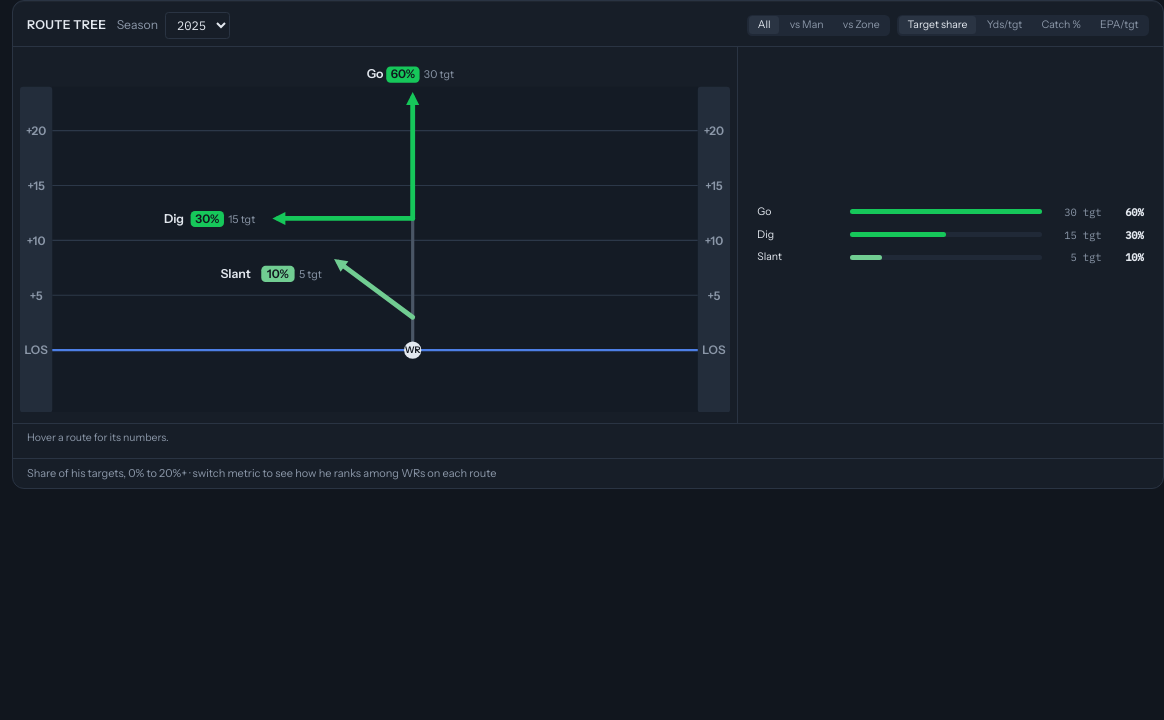
RouteTree › hovering a bar highlights its route and fills the tip line
Hover over the list item "Go 30 tgt 60%" at (951, 212), box [752, 201, 1149, 222]
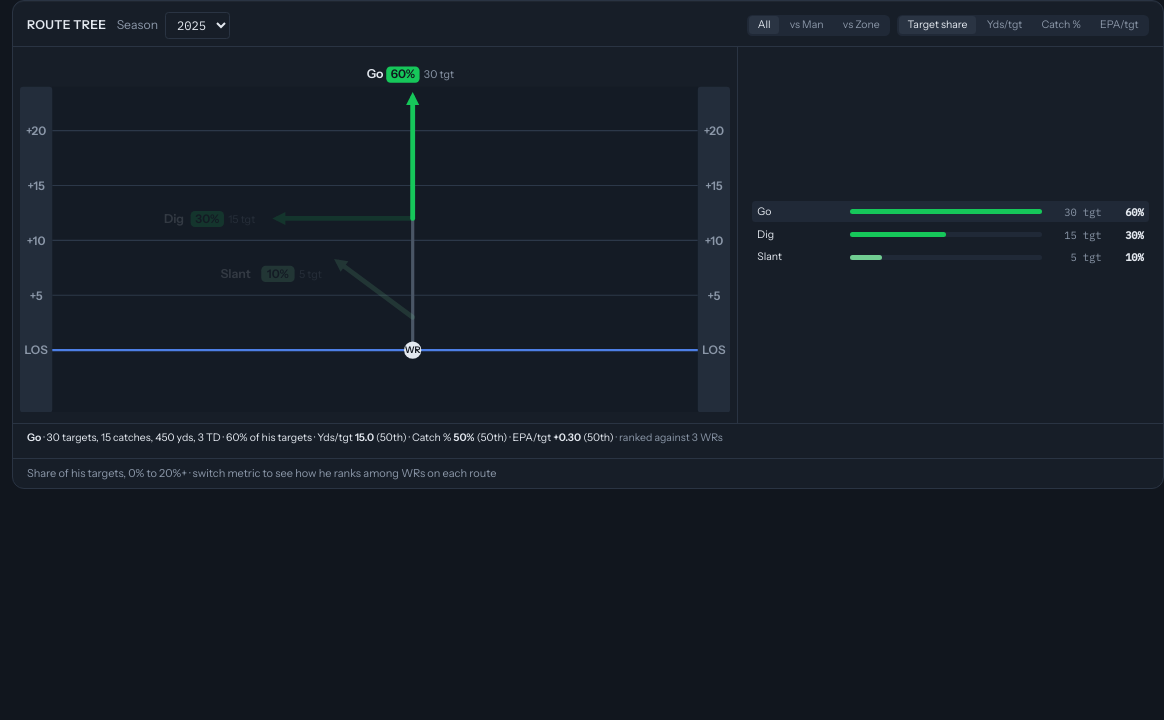
Now the element with test id "chart-tip" shows "Go · 30 targets, 15 catches, 450 yds, 3 TD", box [13, 422, 1163, 458]
Now the element with test id "chart-tip" shows "ranked against 3 WRs", box [13, 422, 1163, 458]
